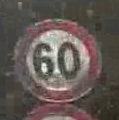limite 60: (12, 15, 105, 106)
